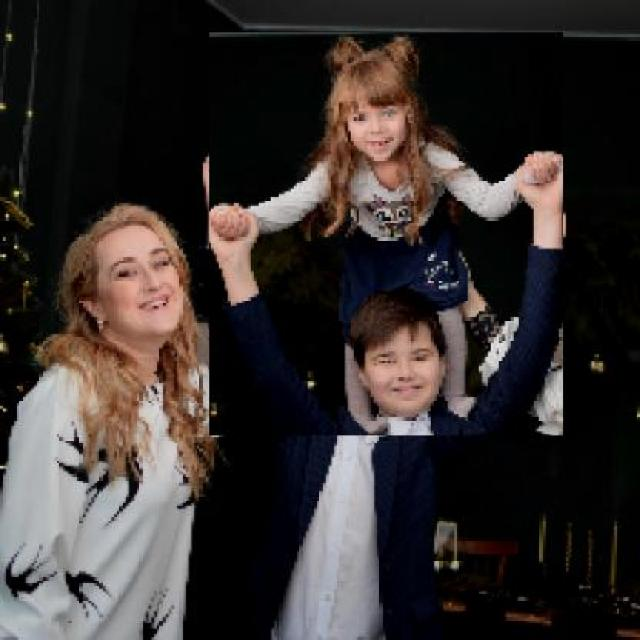child: (208, 32, 563, 437)
